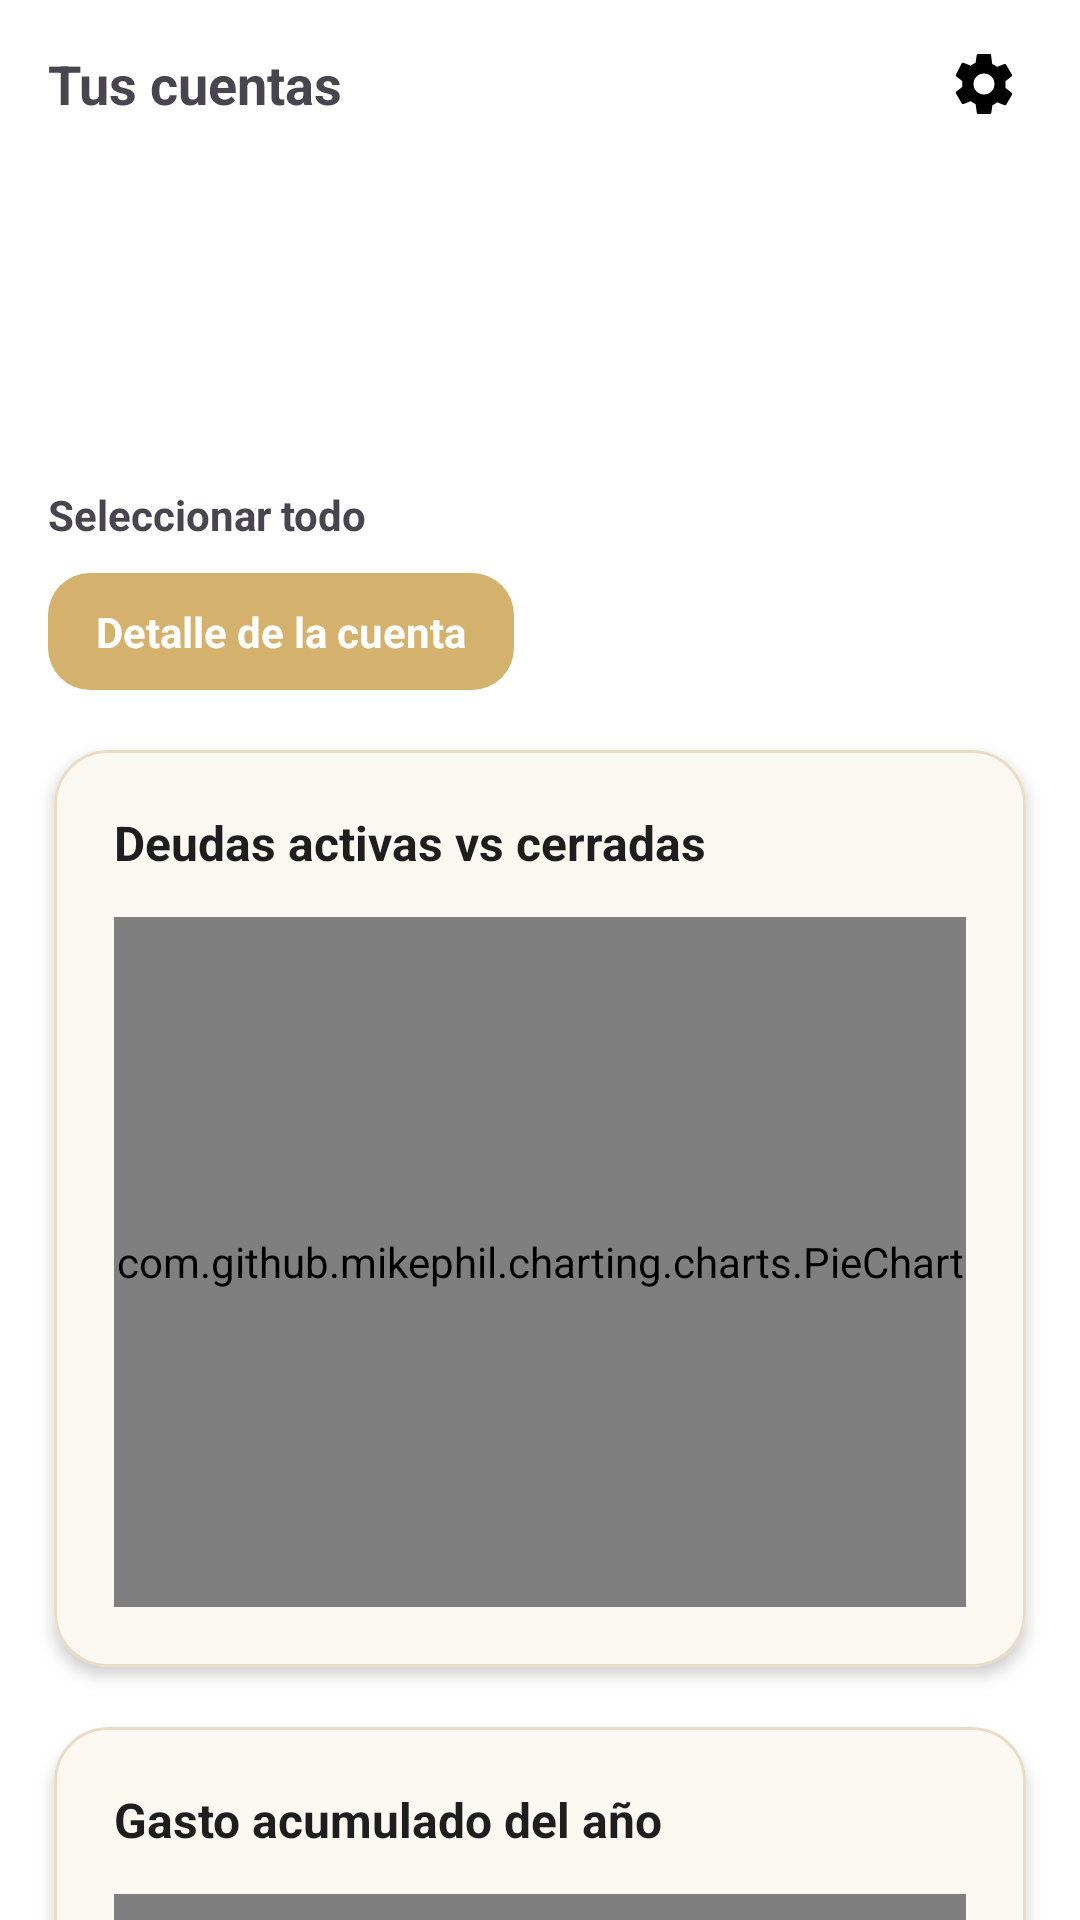

Icon click points for this 1080*1920 phone screenshot, format (x=x, y=y):
Ajustes: (x=984, y=84)
